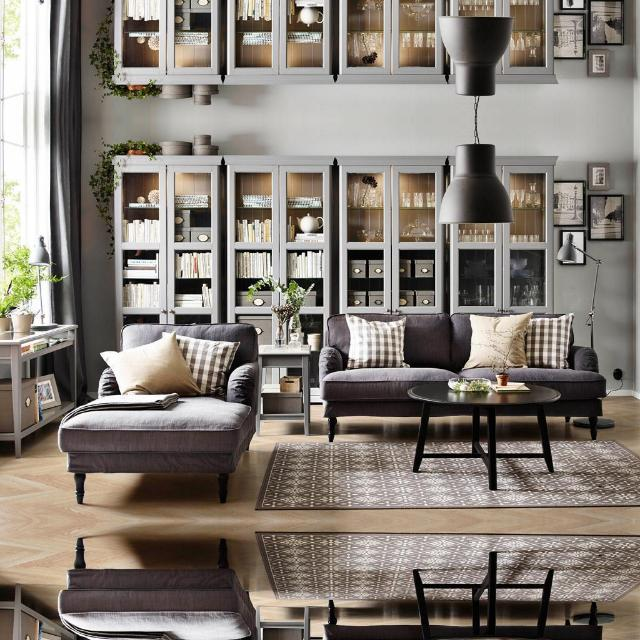armchair: (58, 323, 259, 502), (58, 540, 257, 640)
couch: (320, 313, 495, 437), (509, 334, 606, 417), (545, 625, 602, 640)
curtain: (50, 119, 88, 403), (50, 0, 81, 119)
lamp: (556, 233, 601, 347)
light: (439, 119, 514, 222), (439, 16, 514, 119)
plant: (89, 139, 161, 257), (89, 0, 161, 99), (0, 245, 64, 322), (248, 275, 314, 340)
rug: (256, 440, 640, 510), (256, 532, 640, 602)
shelf: (226, 155, 334, 344), (114, 154, 225, 330), (338, 156, 445, 313), (450, 156, 556, 313), (114, 0, 225, 84), (226, 0, 334, 83), (338, 0, 445, 82), (451, 0, 556, 82)
table: (408, 383, 560, 490), (412, 552, 554, 640), (0, 324, 78, 458), (0, 584, 78, 640)
wall-art: (589, 194, 624, 238), (589, 0, 624, 44), (554, 180, 585, 225), (554, 13, 585, 58), (560, 229, 586, 250), (589, 163, 609, 188), (589, 50, 609, 75), (559, 249, 588, 264), (560, 0, 586, 9)
